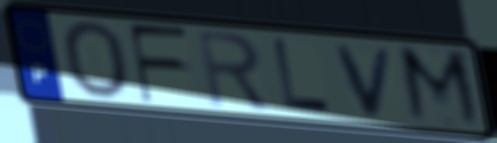F: (125, 22, 192, 106)
L: (270, 37, 334, 116)
M: (393, 43, 487, 132)
O: (59, 18, 133, 101)
R: (194, 27, 274, 112)
V: (331, 43, 398, 120)
